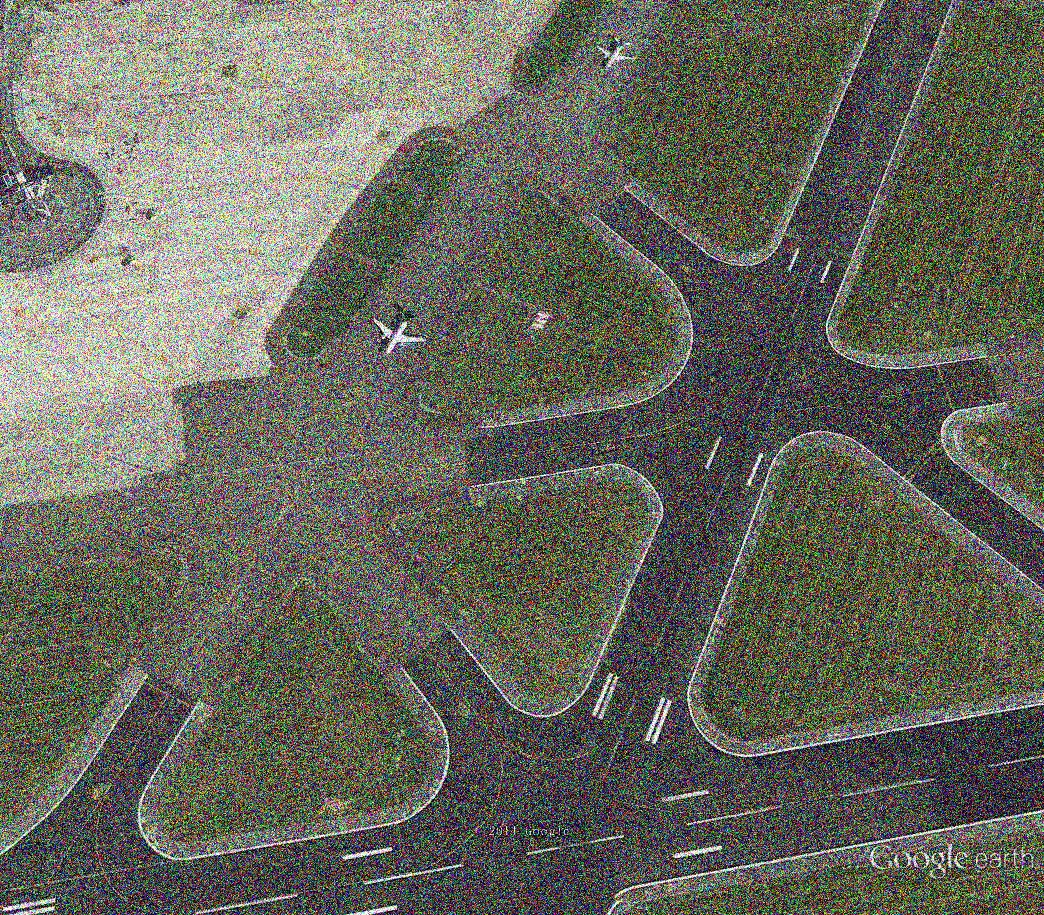aircraft: (367, 304, 435, 360), (589, 33, 640, 73)
